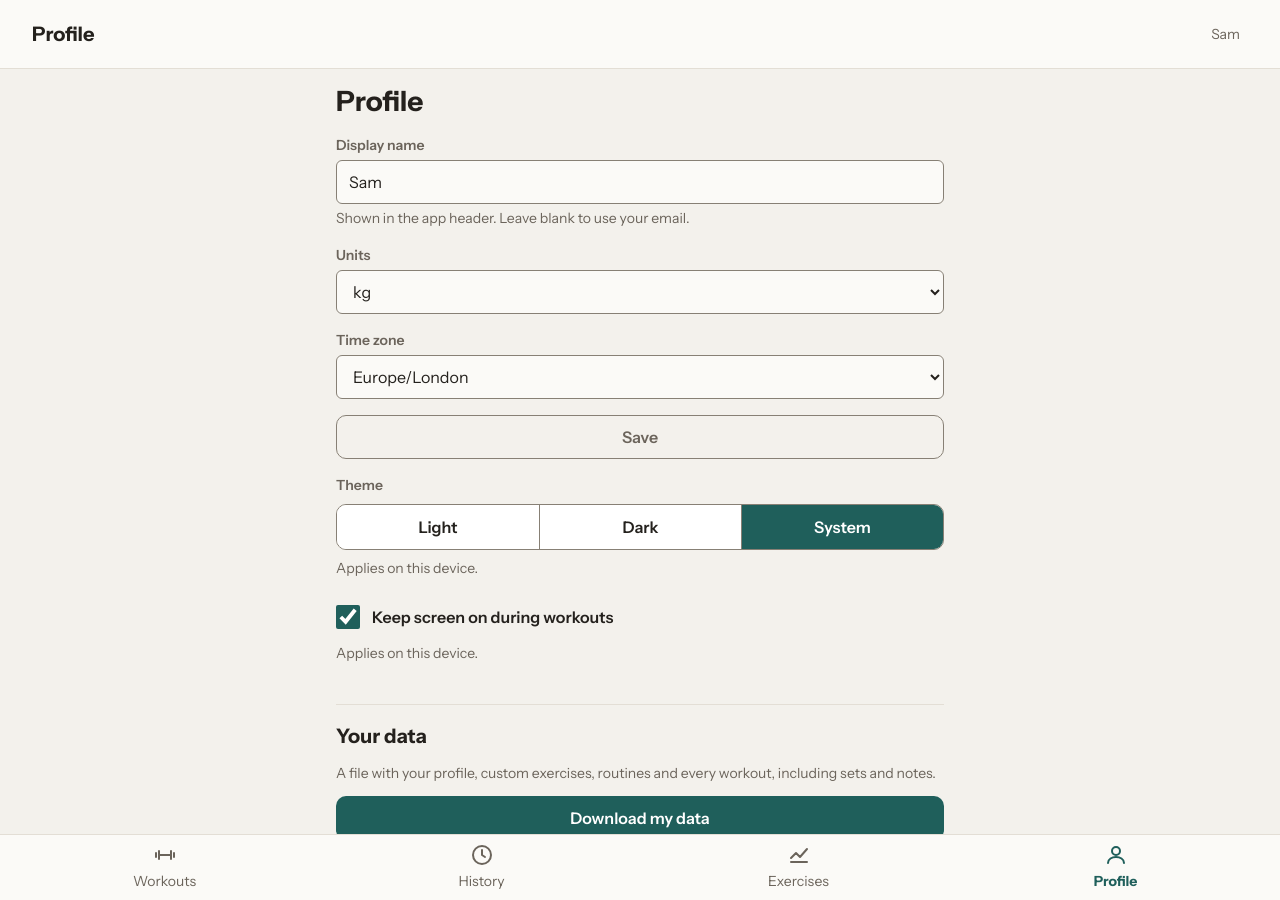
Scenario: AC6 — Profile saves (Spec 04.1 §2) › PATCHes only the changed field, writes the cache, and the shell header updates with no refetch
Expected: the link with test id "app-shell-user" reads "Sam", [1211, 24, 1240, 42]
Expected: the button "Save" is disabled, [336, 415, 944, 459]
Replace the text in the field labelled "Display name" with "Samira" at (640, 182), box [336, 160, 944, 204]
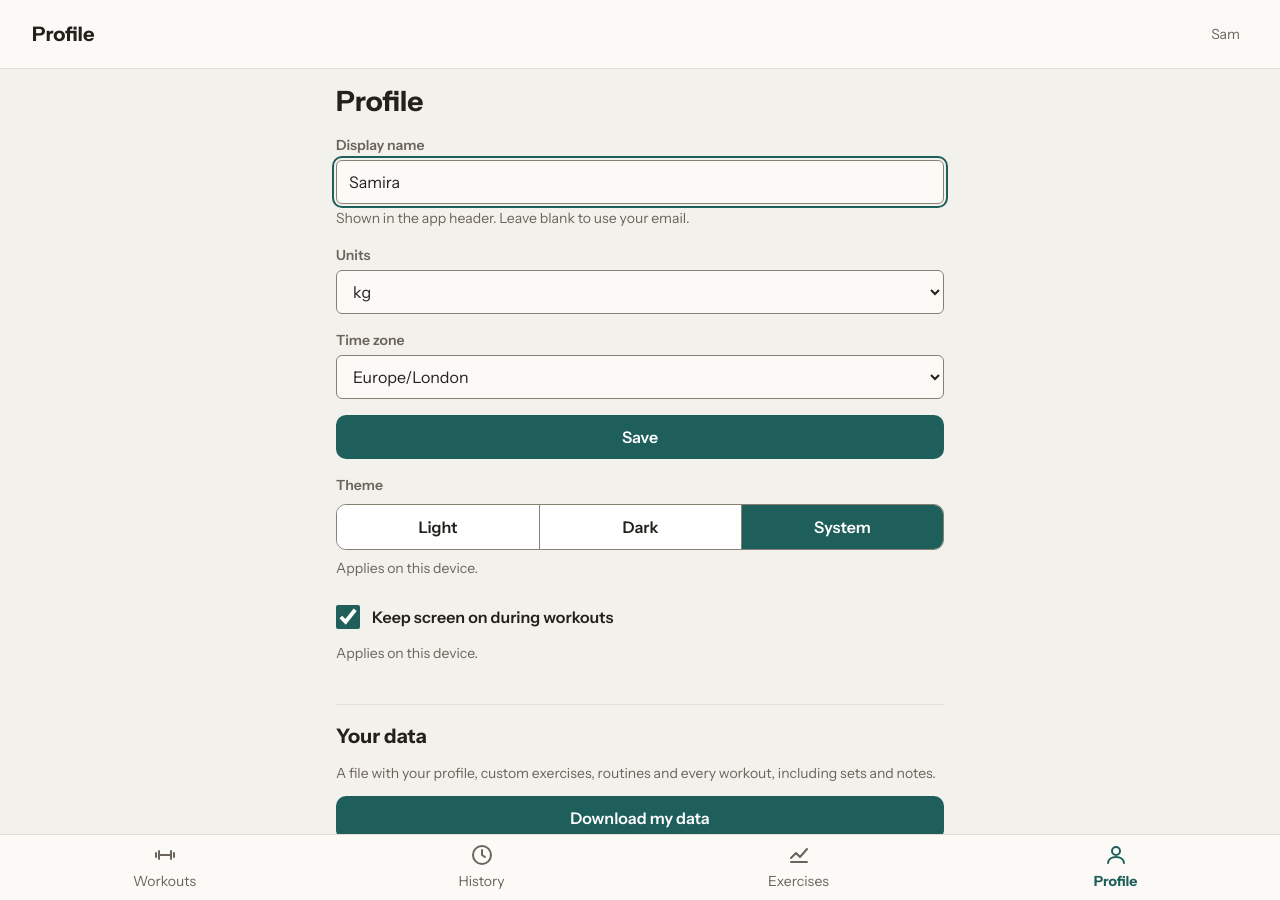
Click the button "Save" at (640, 437), box [336, 415, 944, 459]
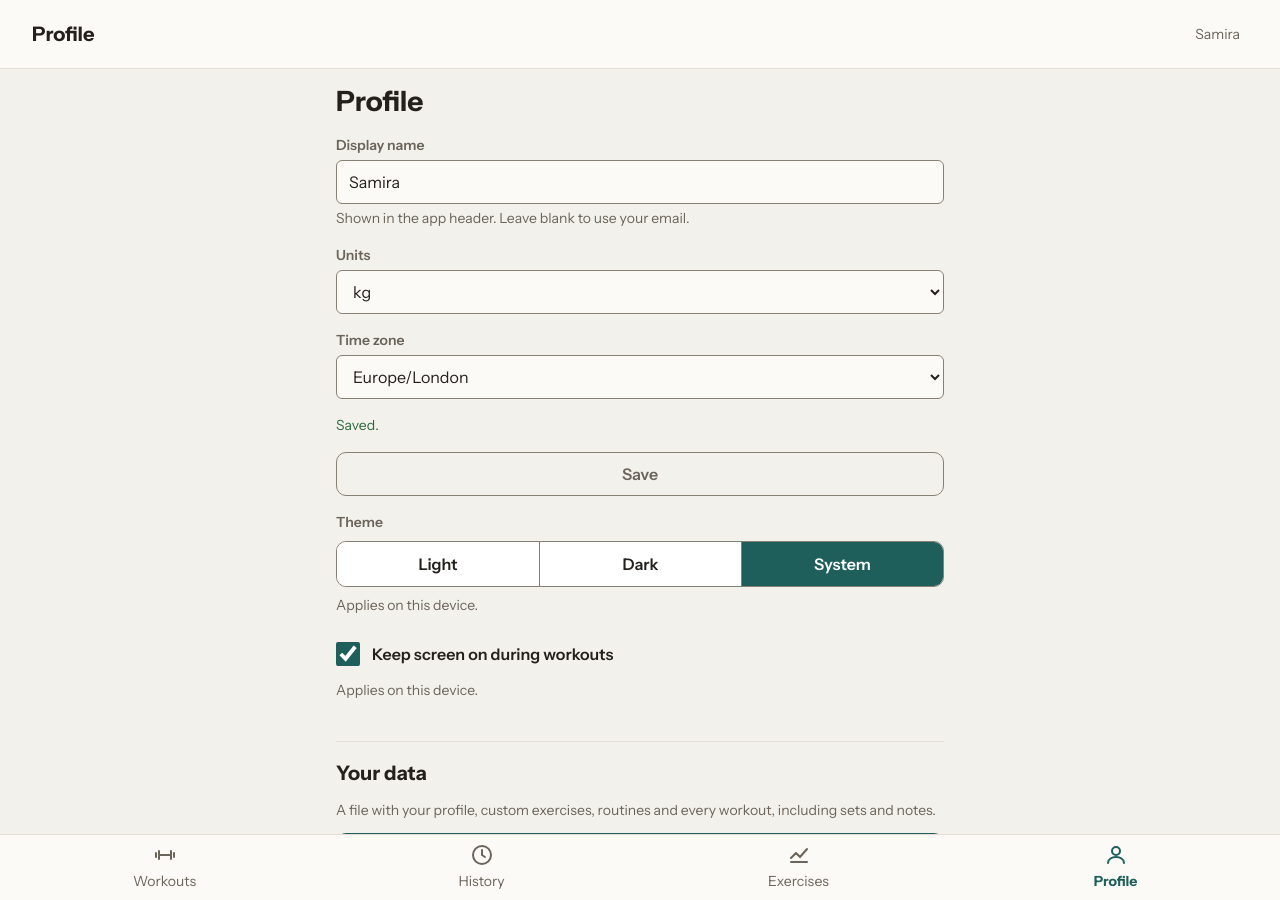
Expected: the message "Saved." is shown, [336, 416, 379, 434]
Expected: the link with test id "app-shell-user" reads "Samira", [1195, 24, 1240, 42]
Expected: the button "Save" is disabled, [336, 452, 944, 496]
